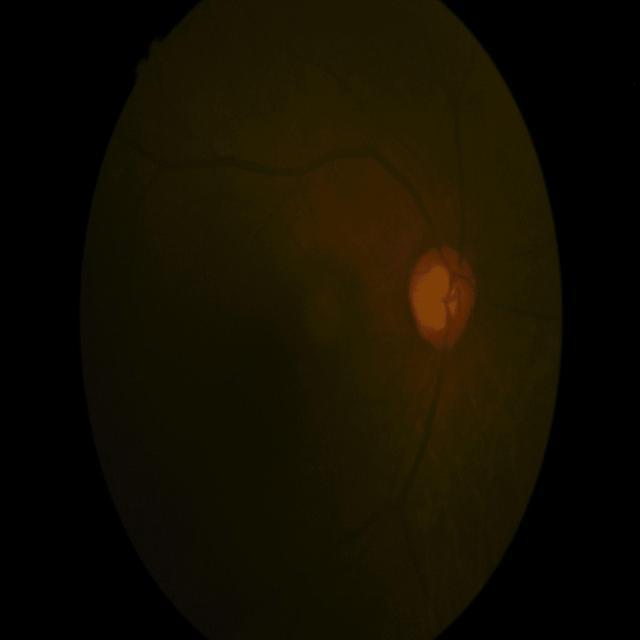cup: (416, 266, 459, 332)
disk: (408, 244, 478, 350)
